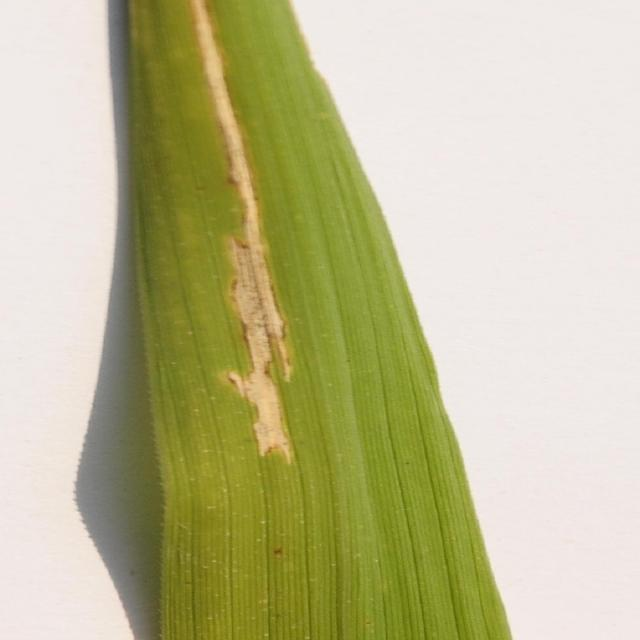leaf blight: (176, 2, 320, 464)
